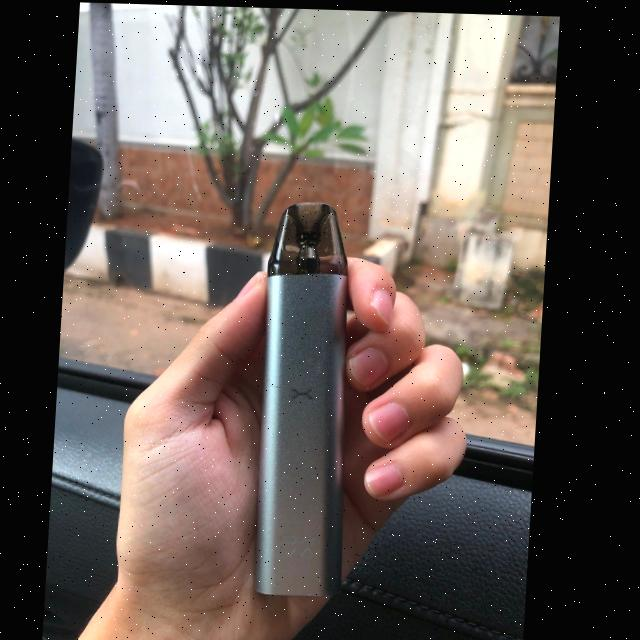vape: (254, 201, 365, 597)
